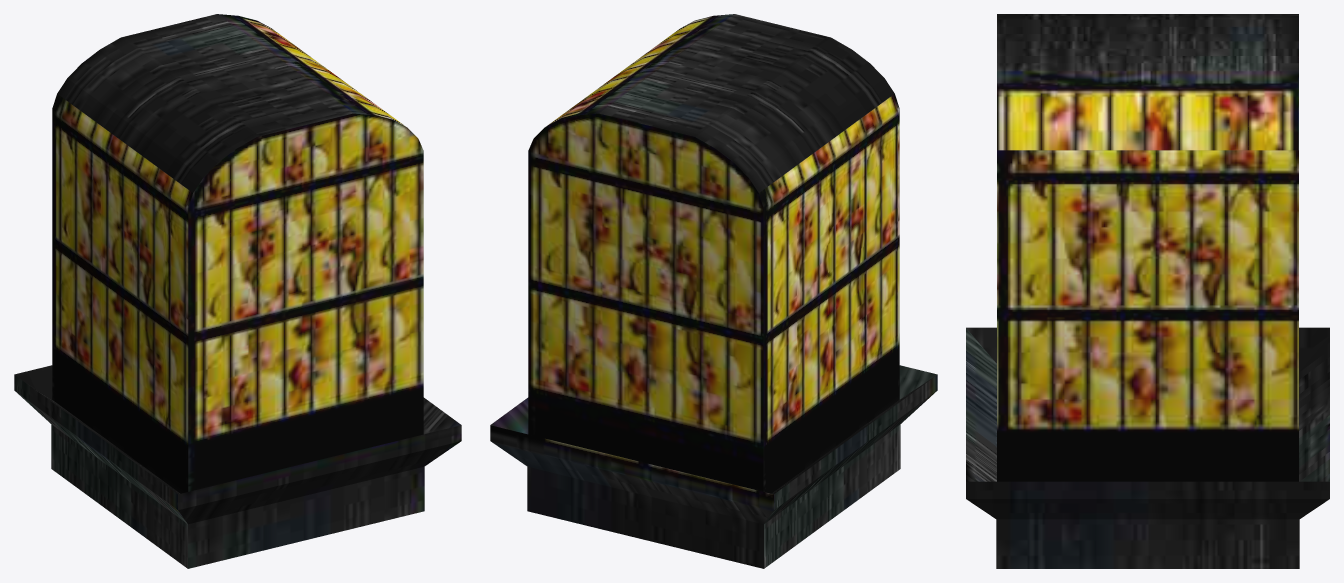
Rendered from birdcage_080422.dae.
3 views of the same model, side by side, from view 1: azimuth 30°, elevation 25°; view 2: azimuth 150°, elevation 25°; view 3: azimuth 270°, elevation 25° (orthographic). The views are drawn at different scales.
Parts seen in each view (by area): view 1: pCube1; view 2: pCube1; view 3: pCube1.
Part boxes in pixels (x1=…): pCube1: x1=14, y1=14, x2=461, y2=568; pCube1: x1=490, y1=14, x2=937, y2=568; pCube1: x1=966, y1=14, x2=1329, y2=568.
Size of the model in its own units: 1.2 by 1.68 by 1.2.
